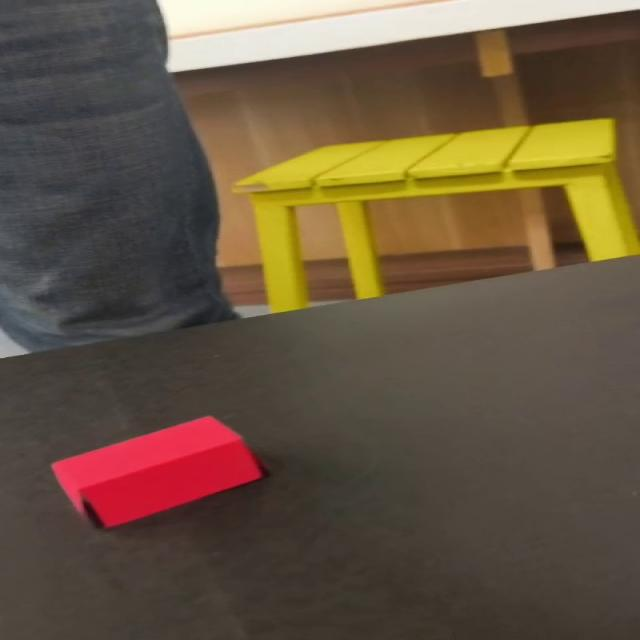red block: (49, 414, 266, 529)
